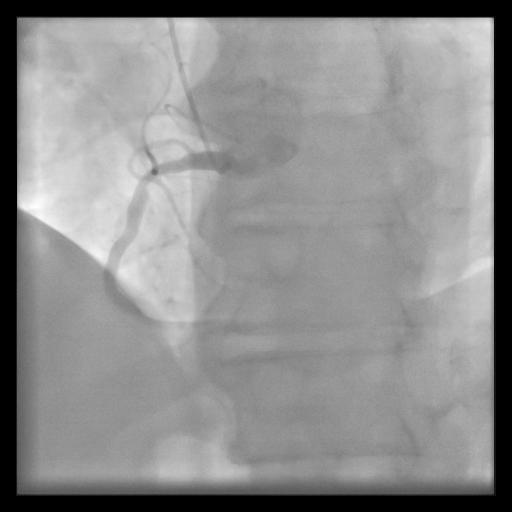Stenosis: (132, 162, 167, 184)
